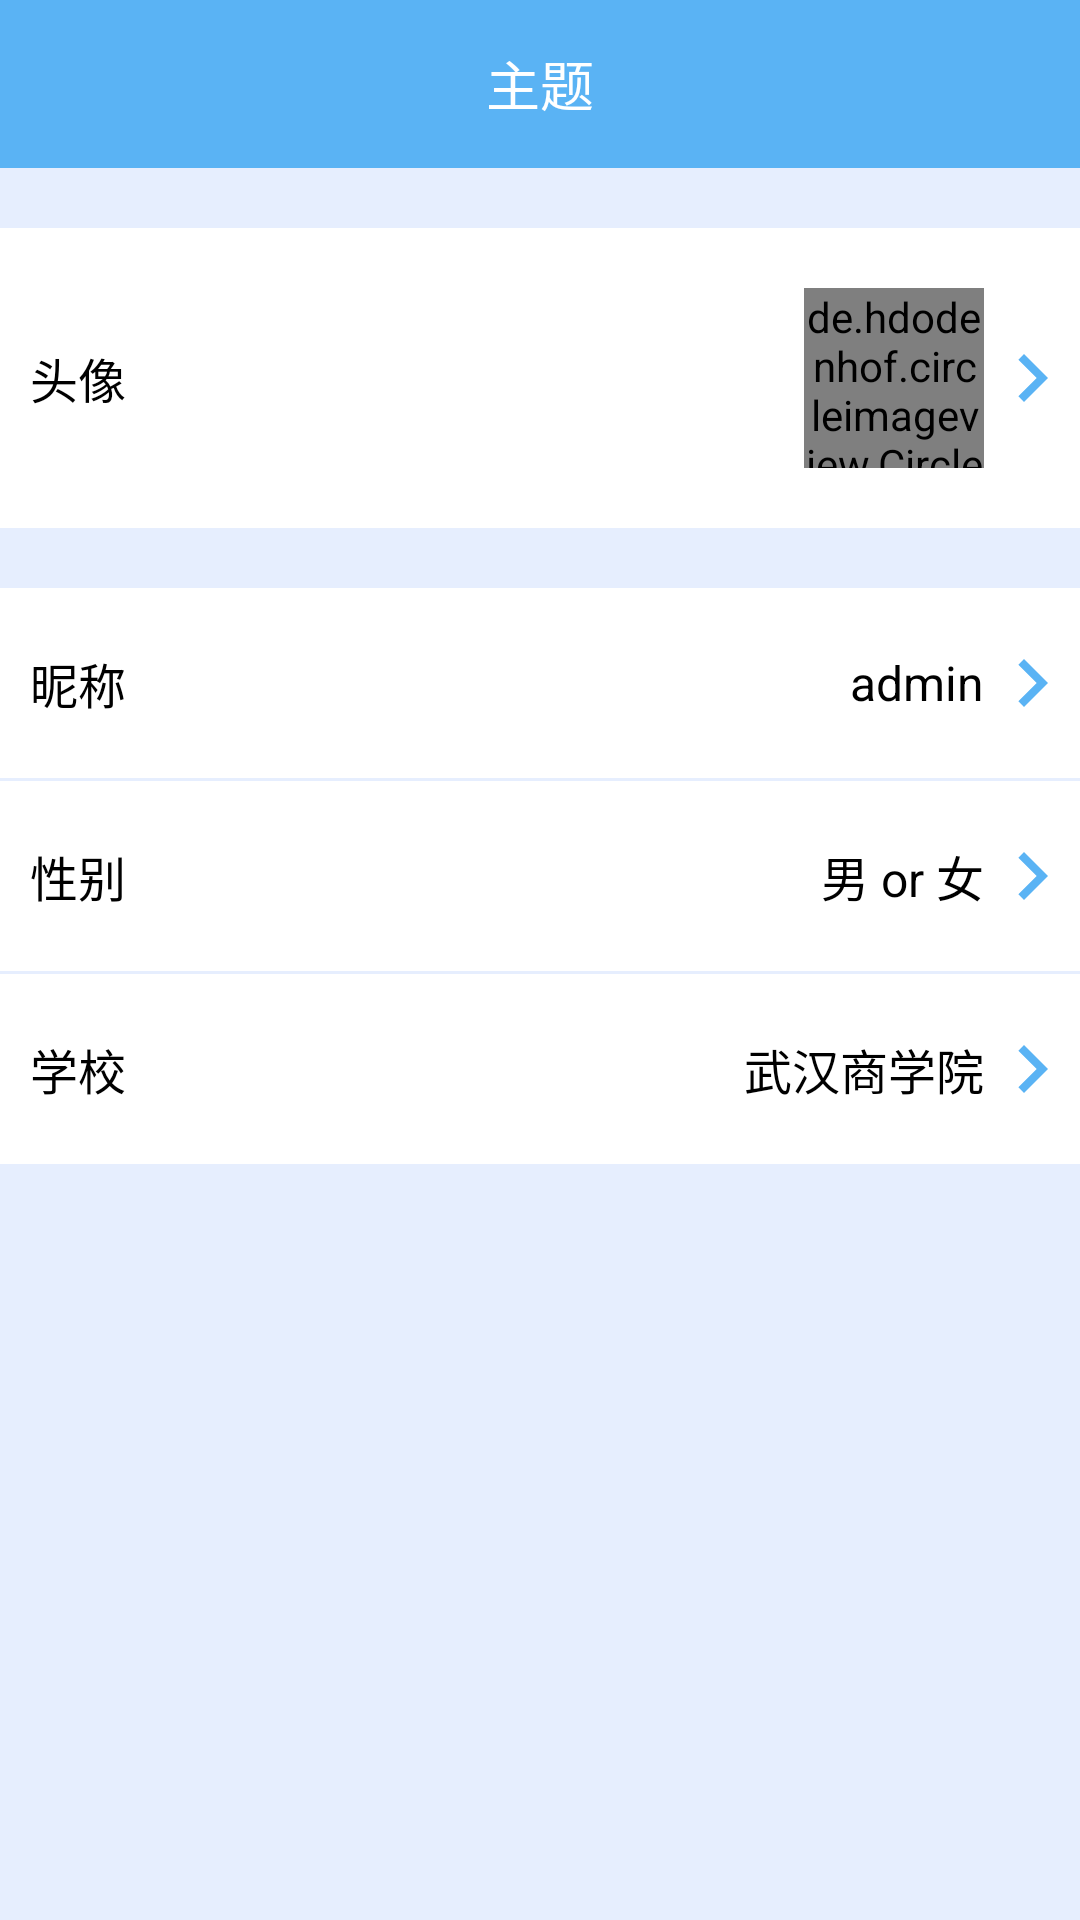

Icon click points for this 1080 x 1920 phone screenshot, format (x=x, y=y):
chevron right: (x=1033, y=378), (x=1033, y=683), (x=1033, y=876), (x=1033, y=1069)
